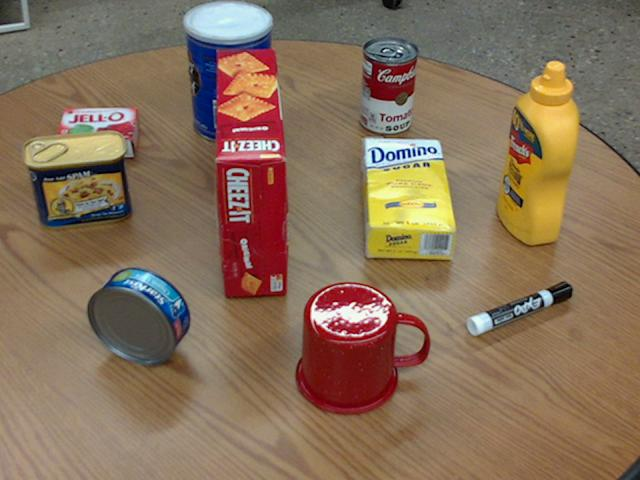cracker_box: (212, 49, 285, 295)
gelatin_box: (53, 106, 137, 155)
large_marker: (467, 282, 572, 335)
master_chef_can: (182, 1, 270, 142)
mug: (296, 281, 428, 414)
mustard_bottle: (497, 62, 577, 244)
potted_meat_can: (23, 129, 130, 227)
sugar_box: (362, 138, 455, 257)
tomato_soup_can: (359, 36, 417, 133)
tuna_fish_can: (88, 268, 190, 364)
